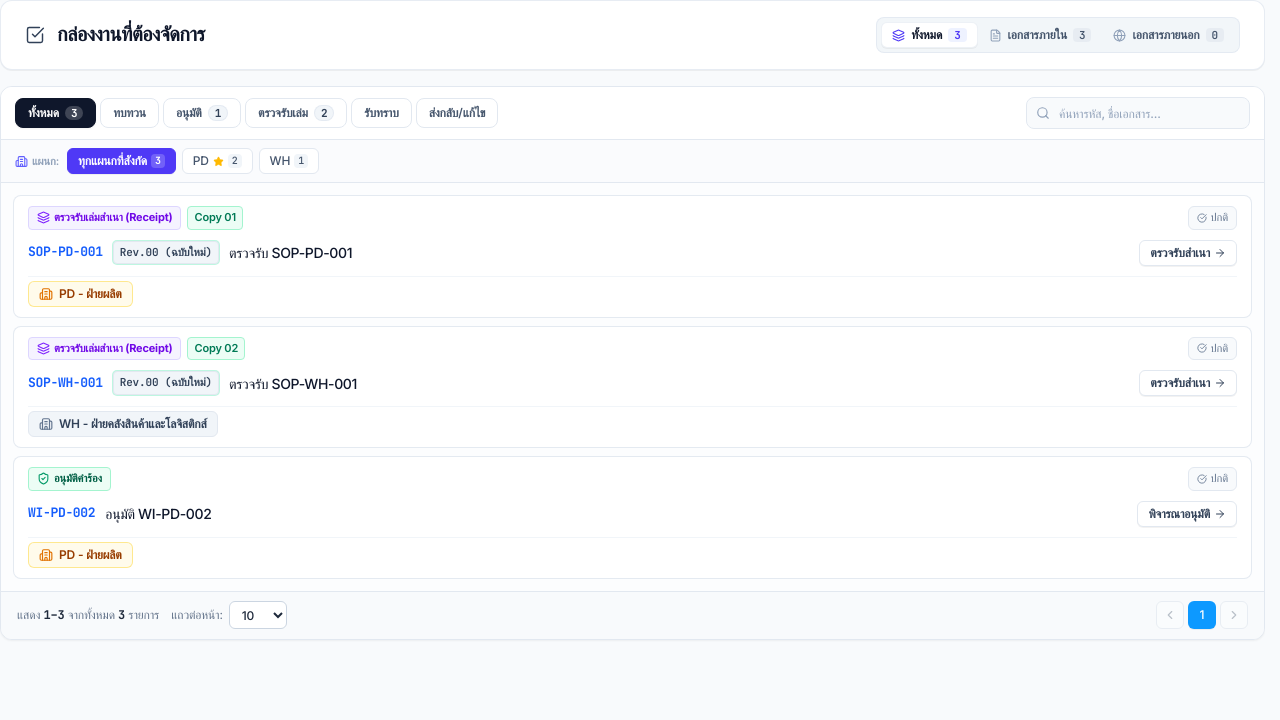
Test: Multi-Department Membership & Cross-Department Task Routing Tests › 2. Task Queue: Cross-Department Routing & Approval Level Filtering › filters tasks via the Department Filter Pill Bar
Check: the heading "ตรวจรับ SOP-PD-001" is shown, box [229,243,352,262]
Check: the heading "ตรวจรับ SOP-WH-001" is shown, box [229,374,357,393]
# Click "เฉพาะงาน WH"
Click the button with aria-label "เฉพาะงาน WH" at (289, 161), box [258,148,319,174]
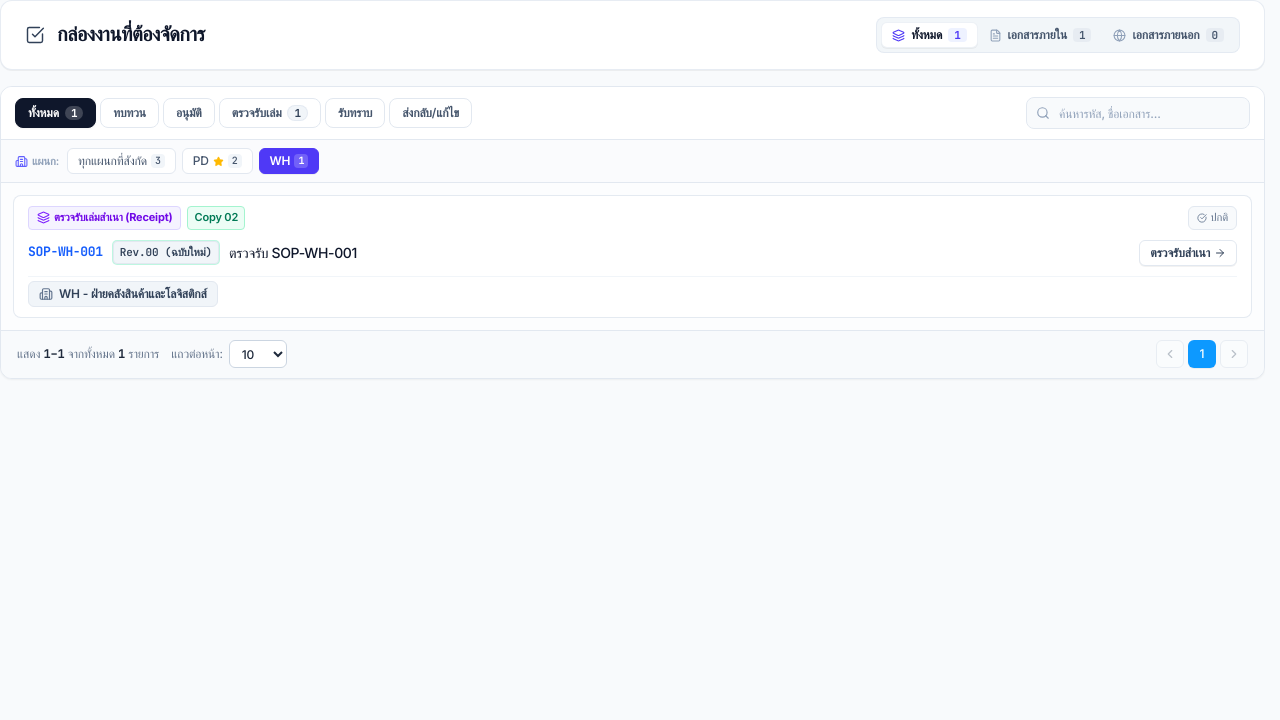
Check: the heading "ตรวจรับ SOP-WH-001" is shown, box [229,243,357,262]
Check: the heading "ตรวจรับ SOP-PD-001" is gone
# Click "เฉพาะงาน PD"
Click the button with aria-label "เฉพาะงาน PD" at (217, 161), box [182,148,252,174]
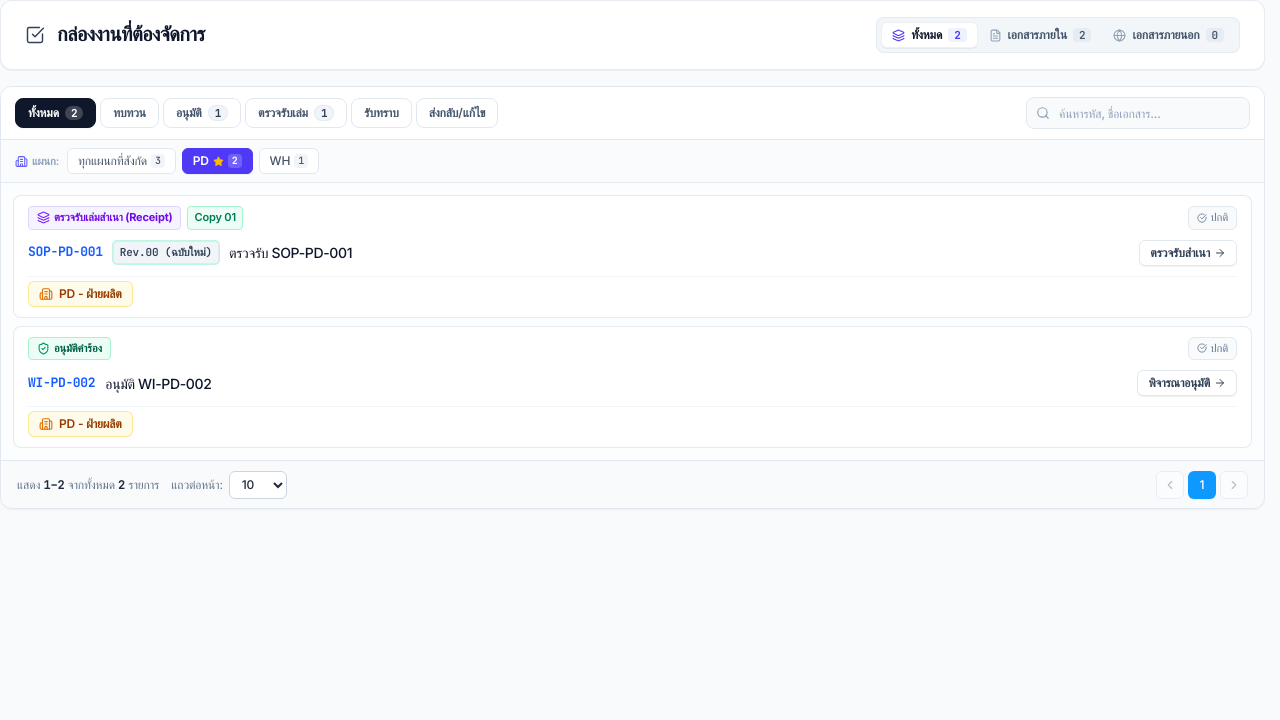
Check: the heading "ตรวจรับ SOP-PD-001" is shown, box [229,243,352,262]
Check: the heading "ตรวจรับ SOP-WH-001" is gone
# Click to "ทุกแผนกที่สังกัด"
Click the button "ทุกแผนกที่สังกัด 3" at (121, 161), box [67,148,176,174]
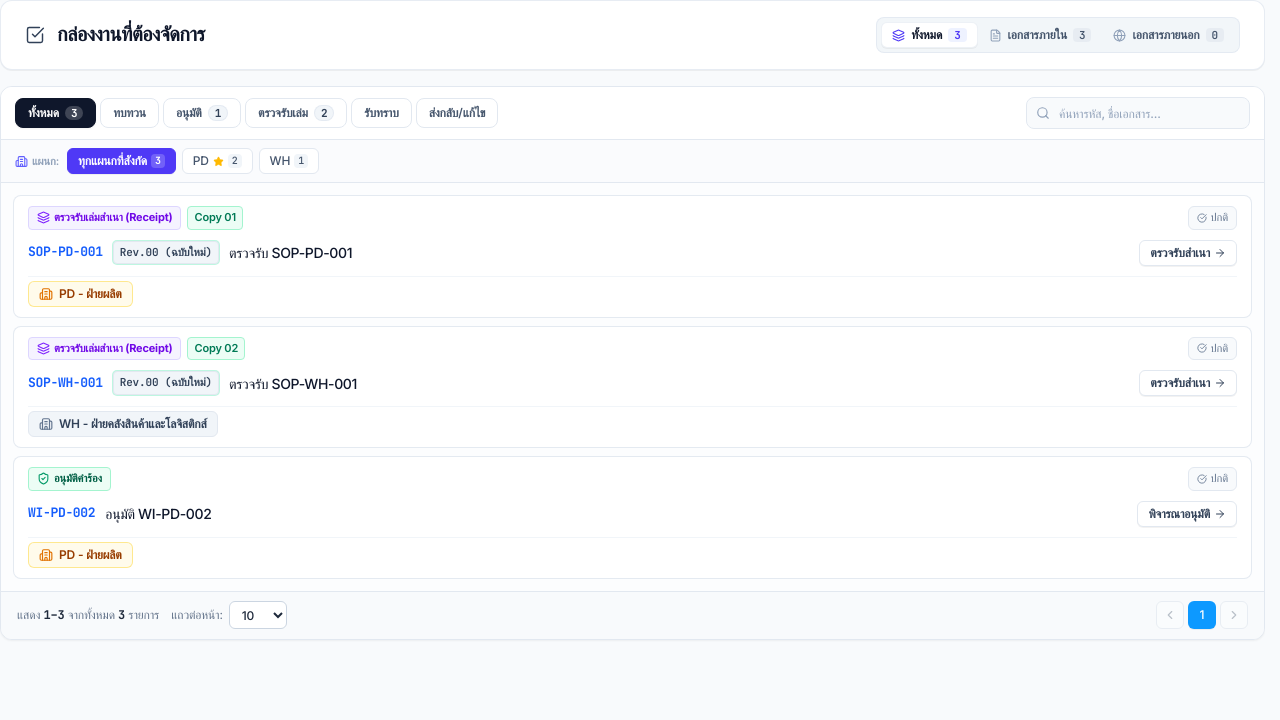
Check: the heading "ตรวจรับ SOP-PD-001" is shown, box [229,243,352,262]
Check: the heading "ตรวจรับ SOP-WH-001" is shown, box [229,374,357,393]
